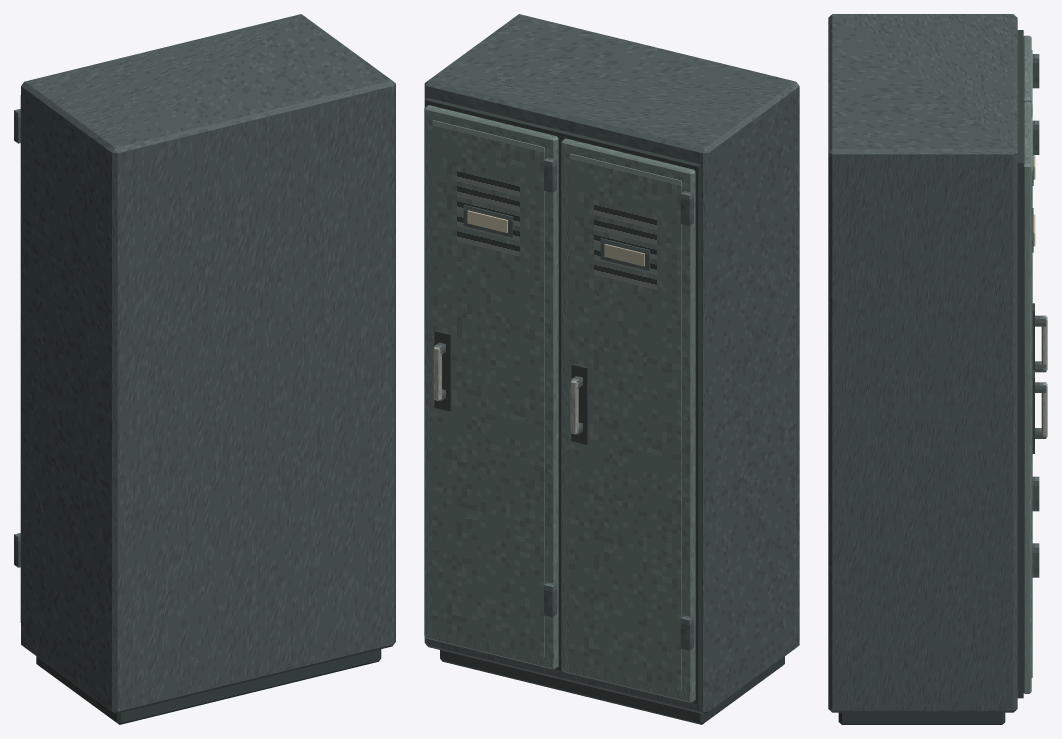
The model's file is f_locker.glb.
3 views of the same model, side by side, from view 1: azimuth 30°, elevation 25°; view 2: azimuth 150°, elevation 25°; view 3: azimuth 270°, elevation 25° (orthographic).
Visible parts, largest first — view 1: block_pressed steel carcass, block_recessed base; view 2: block_pressed steel carcass, block_louvred panel 1, block_louvred panel 0, block_door 1, block_door 0, block_recessed door frame, block_recessed base, block_handle recess 0, block_handle recess 1; view 3: block_pressed steel carcass, block_door 1, block_recessed door frame, block_recessed base, block_louvred panel 1, block_door 0.
Part boxes in pixels (<box>): block_pressed steel carcass: <box>21,14,395,713</box>; block_recessed base: <box>36,649,381,724</box>; block_pressed steel carcass: <box>424,14,799,714</box>; block_louvred panel 1: <box>432,120,544,656</box>; block_louvred panel 0: <box>569,153,681,690</box>; block_door 1: <box>424,105,558,669</box>; block_door 0: <box>561,138,695,702</box>; block_recessed door frame: <box>424,97,701,704</box>; block_recessed base: <box>440,650,784,724</box>; block_handle recess 0: <box>571,363,588,444</box>; block_handle recess 1: <box>434,330,451,411</box>; block_pressed steel carcass: <box>828,14,1017,712</box>; block_door 1: <box>1023,102,1031,693</box>; block_recessed door frame: <box>1017,30,1023,698</box>; block_recessed base: <box>838,712,1005,724</box>; block_louvred panel 1: <box>1031,116,1032,677</box>; block_door 0: <box>1023,35,1031,103</box>.
Bounding box in the file's own units: 0.932 × 1.83 × 0.626.
Materials: 1 (1 with a texture image).
